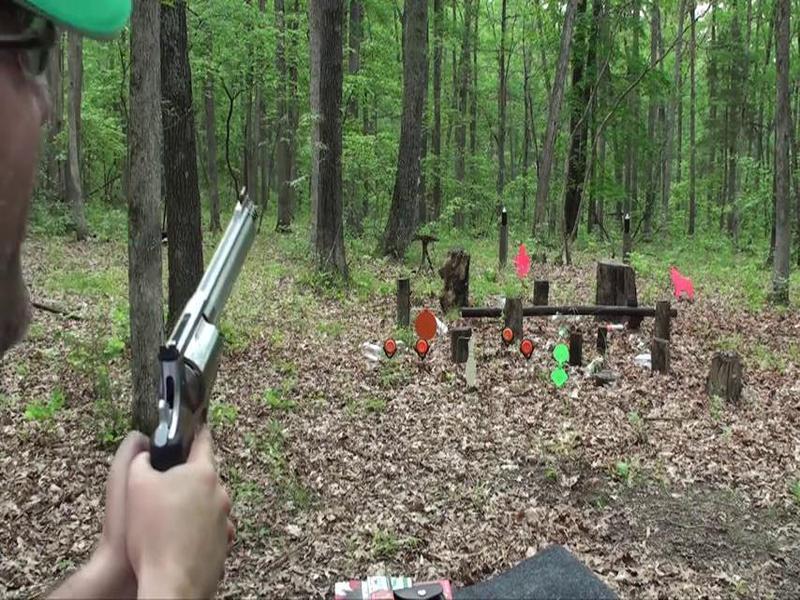Revolver: (117, 192, 282, 484)
